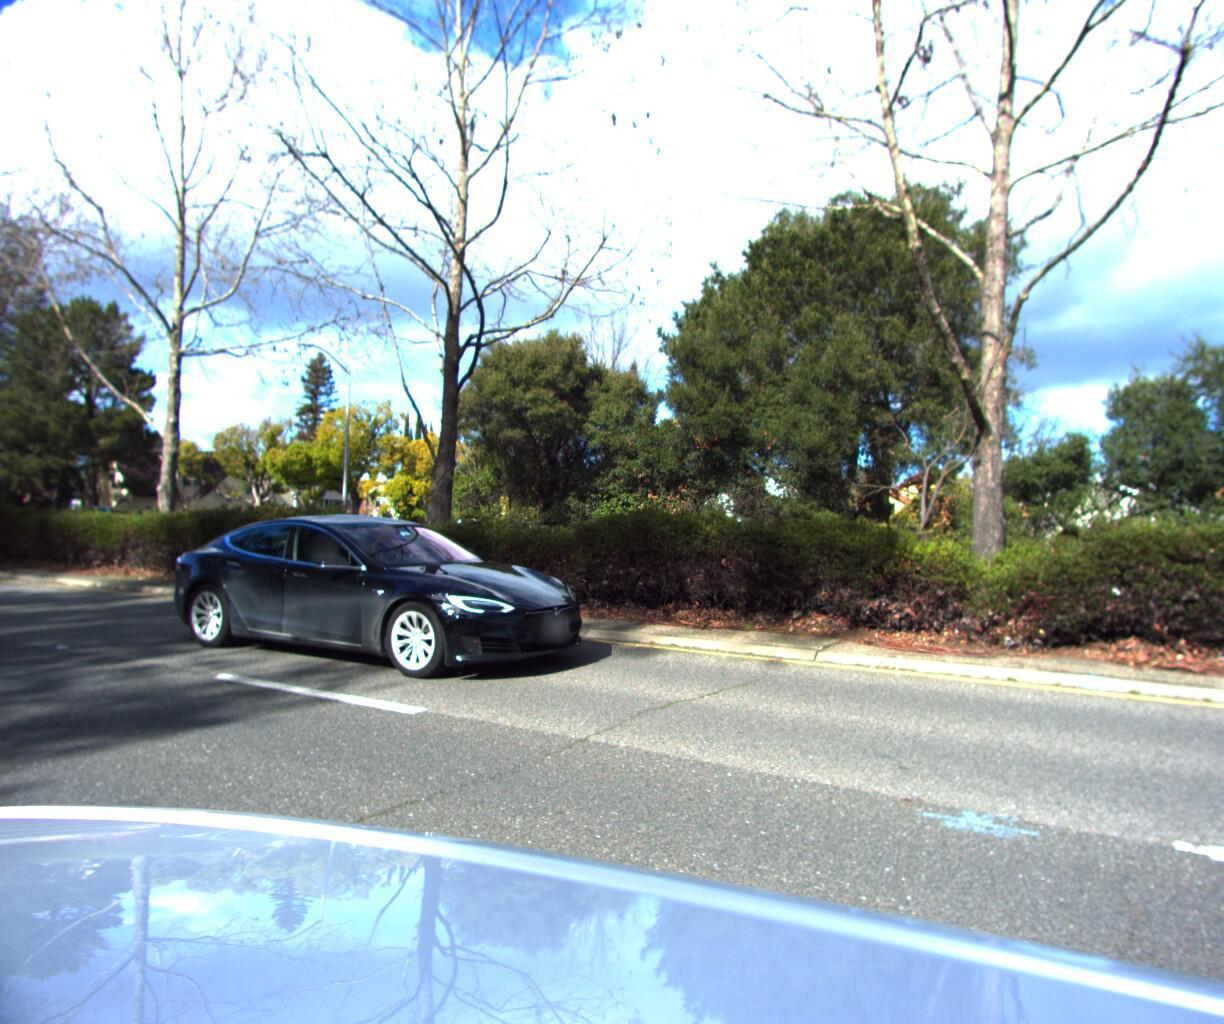car: (138, 504, 625, 698)
